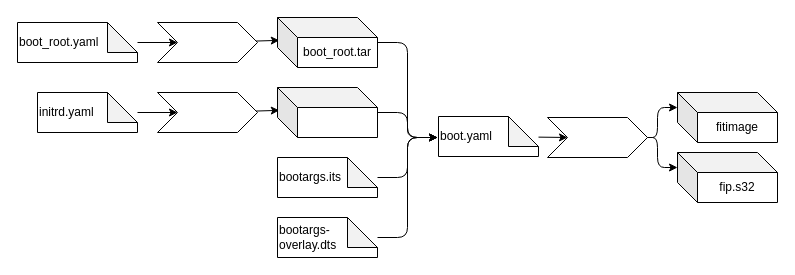
The diagram is 795 pixels wide and 275 high, and some of its shapes have lost their labels. The shapes that lost their labels are listed below. From the top down, each one's centre as x and y in pixels, then its label:
pixel 207 42: root generator
pixel 207 112: initrd generator
pixel 327 112: initrd.img
pixel 597 137: boot generator
